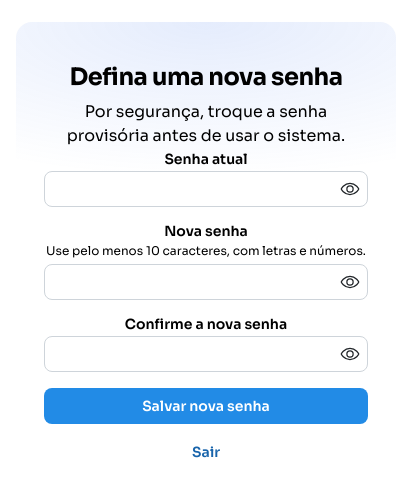
Test: ChangePasswordPage › rejects a password without digits
Type "Old-Pass-123" into the password field labelled "Senha atual".
click(206, 190); type("Old-Pass-123")  # box [45,172,367,206]
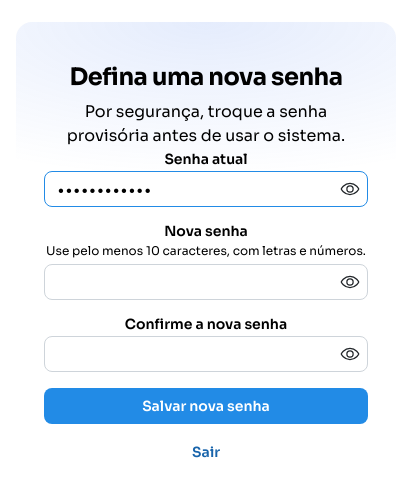
Type "onlylettershere" into the password field labelled "Nova senha".
click(206, 282); type("onlylettershere")  # box [45,265,367,299]
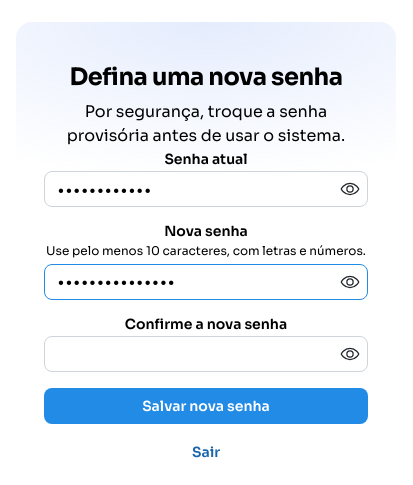
Type "onlylettershere" into the password field labelled "Confirme a nova senha".
click(206, 354); type("onlylettershere")  # box [45,338,367,372]
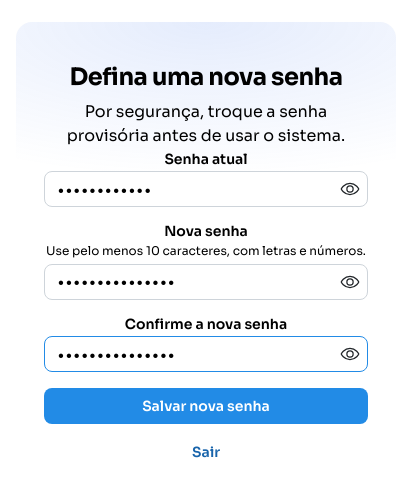
Click the button "Salvar nova senha".
click(206, 406)  # box [44,388,368,424]
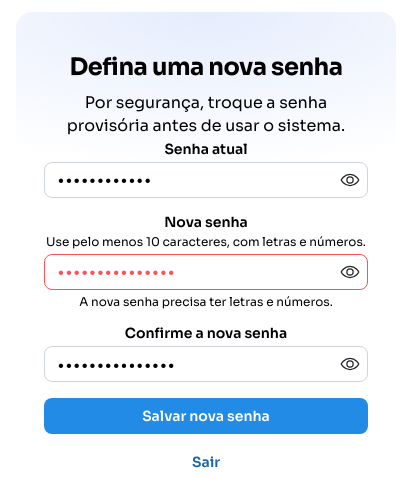
Now the text "A nova senha precisa ter letras e números." is shown, box [79,294,333,309]
